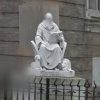Statue: (18, 5, 76, 78)
